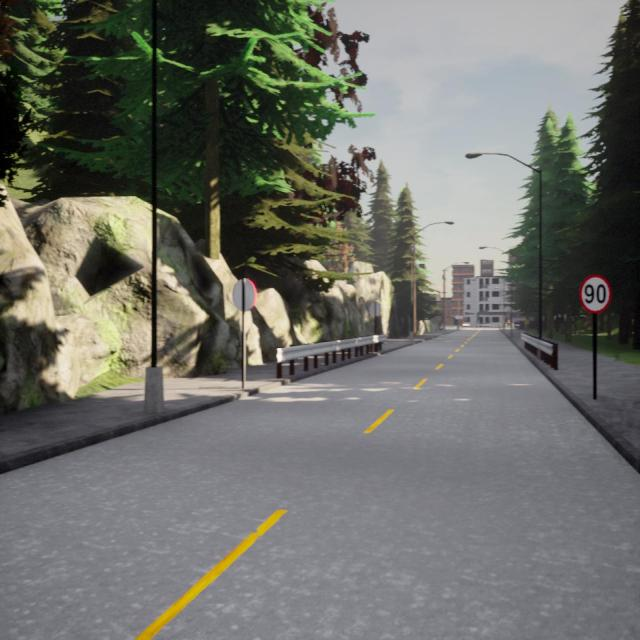Traffic_Signs: (578, 276, 612, 313), (233, 277, 256, 312)
